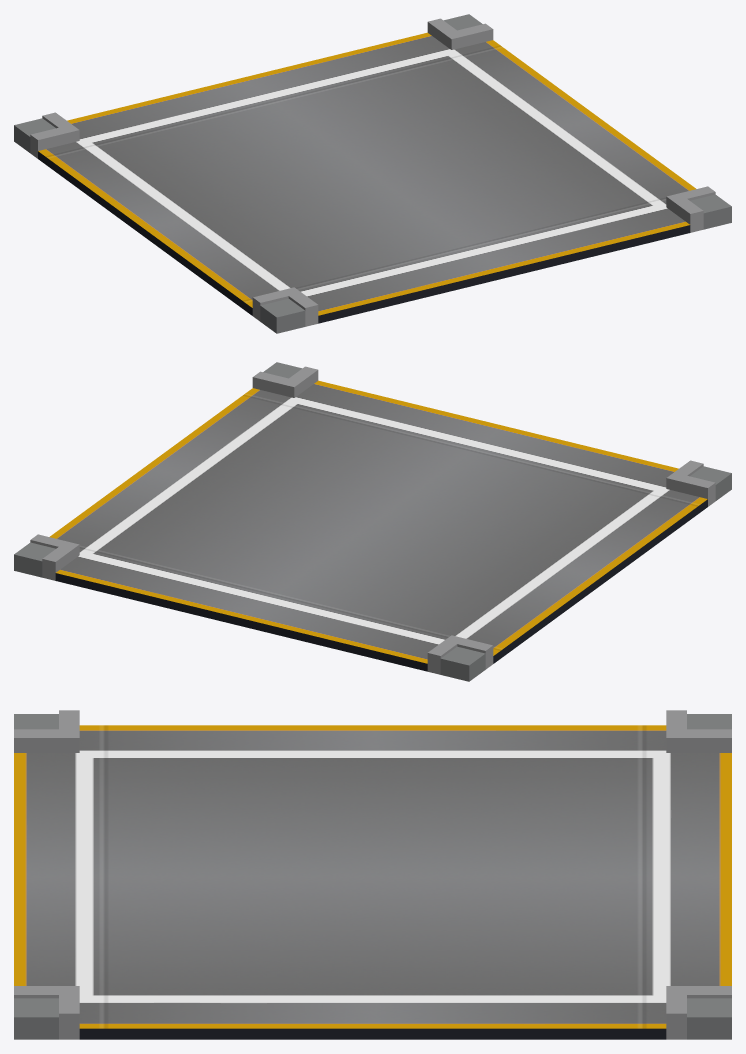
The model's file is Road2_X.dae.
3 renders of one model, top to bottom at view 1: azimuth 30°, elevation 25°; view 2: azimuth 150°, elevation 25°; view 3: azimuth 270°, elevation 25°, orthographic. The views are drawn at different scales.
Parts seen in each view (by area): view 1: Road2_X; view 2: Road2_X; view 3: Road2_X.
Boxes of the visible parts, box(x1,y1,x2,y2) form: Road2_X: box(14, 14, 731, 333); Road2_X: box(14, 362, 731, 681); Road2_X: box(14, 710, 731, 1039).
Size of the model in its own units: 12 by 12 by 0.4753.
1 material, 1 textured.
